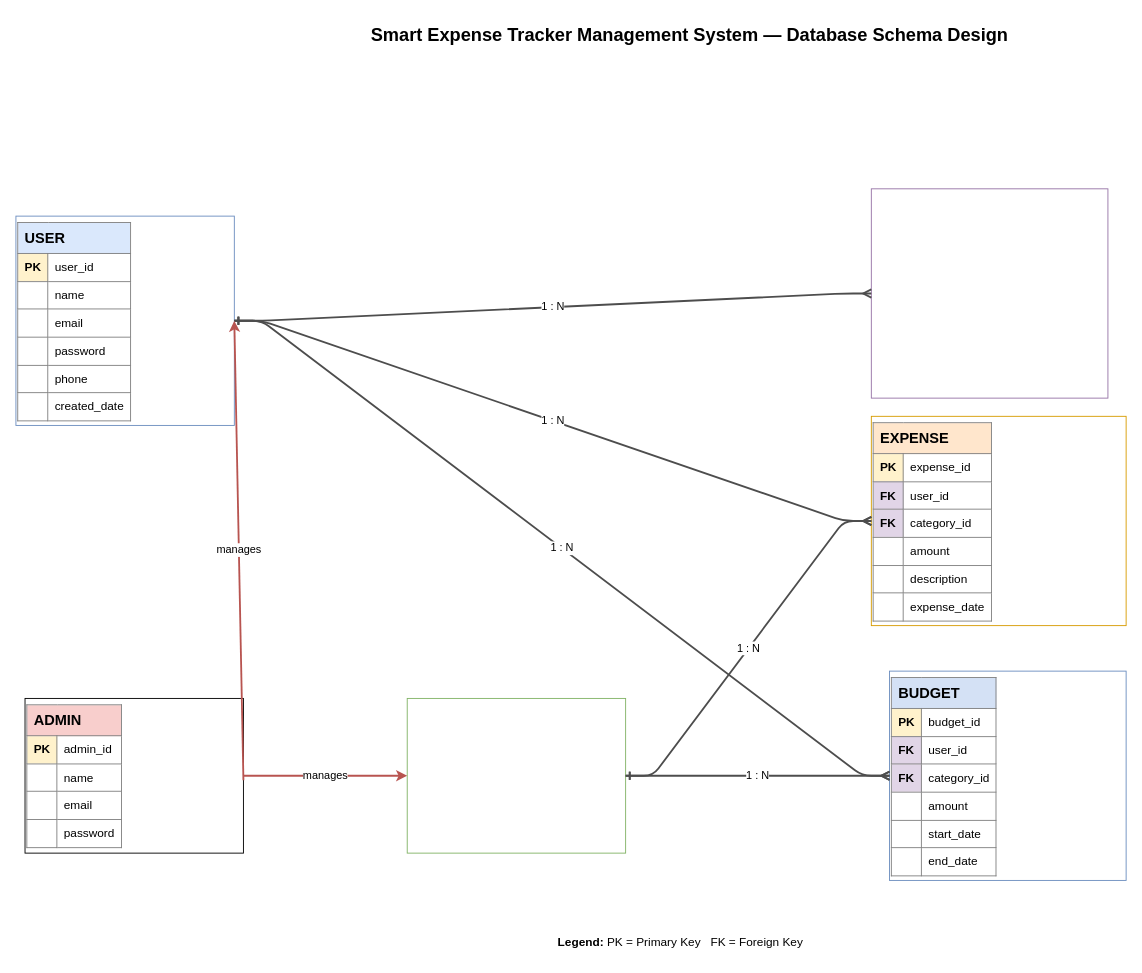
The diagram is 1142 pixels wide and 973 high, and some of its shapes have lost their labels. Each missing label, with the centre of its shape:
CATEGORY PK category_id category_name description: (x=516, y=775)
INCOME PK income_id FK user_id amount source description income_date: (x=989, y=293)
